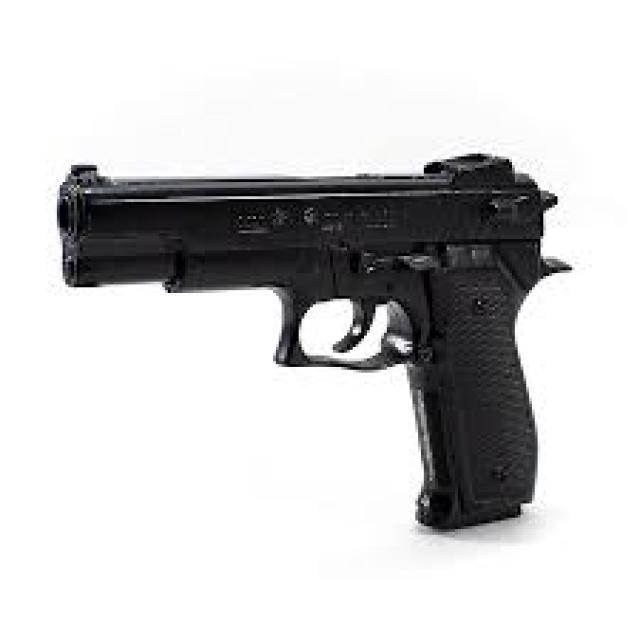pistol: (40, 148, 583, 540)
